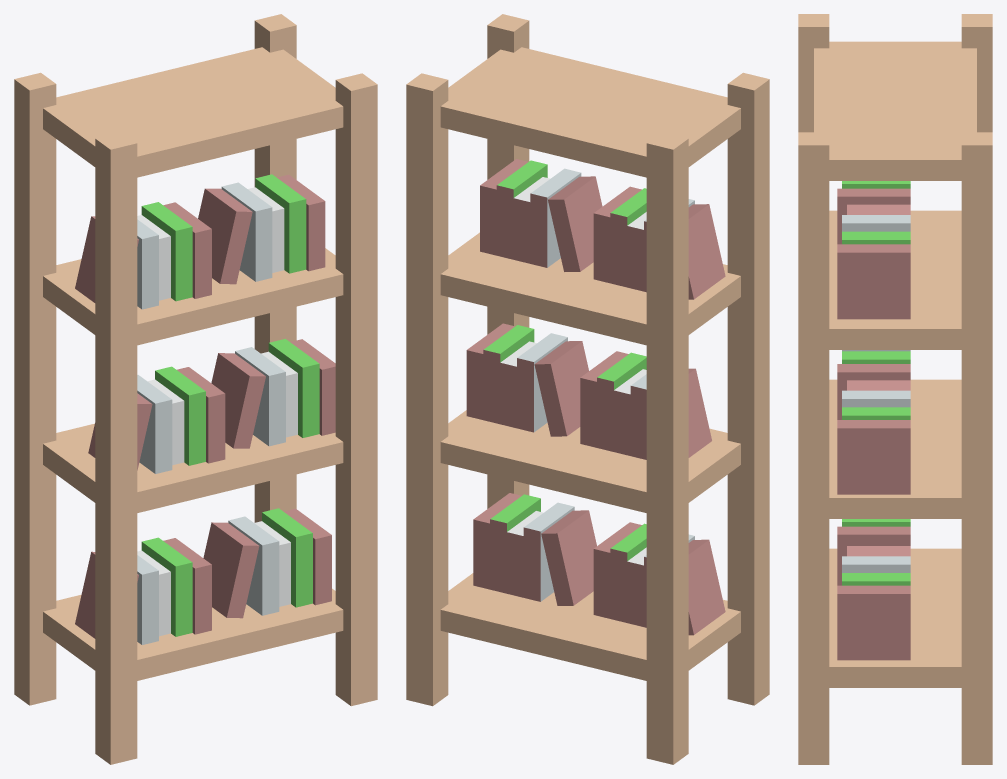
File: bookshelf.glb
3 views of the same model, side by side, from view 1: azimuth 30°, elevation 25°; view 2: azimuth 150°, elevation 25°; view 3: azimuth 270°, elevation 25° (orthographic).
Visible parts, largest first — view 1: bookcaseOpen(Clone), books(Clone) (×6); view 2: bookcaseOpen(Clone), books(Clone) (×6); view 3: bookcaseOpen(Clone), books(Clone) (×6).
Boxes of the visible parts, x1,y1,x2,y2 form: bookcaseOpen(Clone): [14, 14, 377, 764]; books(Clone) (×6): [75, 174, 335, 644]; bookcaseOpen(Clone): [406, 14, 769, 764]; books(Clone) (×6): [466, 159, 725, 635]; bookcaseOpen(Clone): [798, 14, 992, 764]; books(Clone) (×6): [837, 181, 910, 660].
Bounding box in the file's own units: 0.82 × 1.8 × 0.5125.
